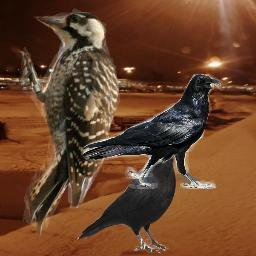Crow: (81, 74, 225, 189), (77, 137, 184, 254)
Woodpecker: (16, 6, 121, 239)
